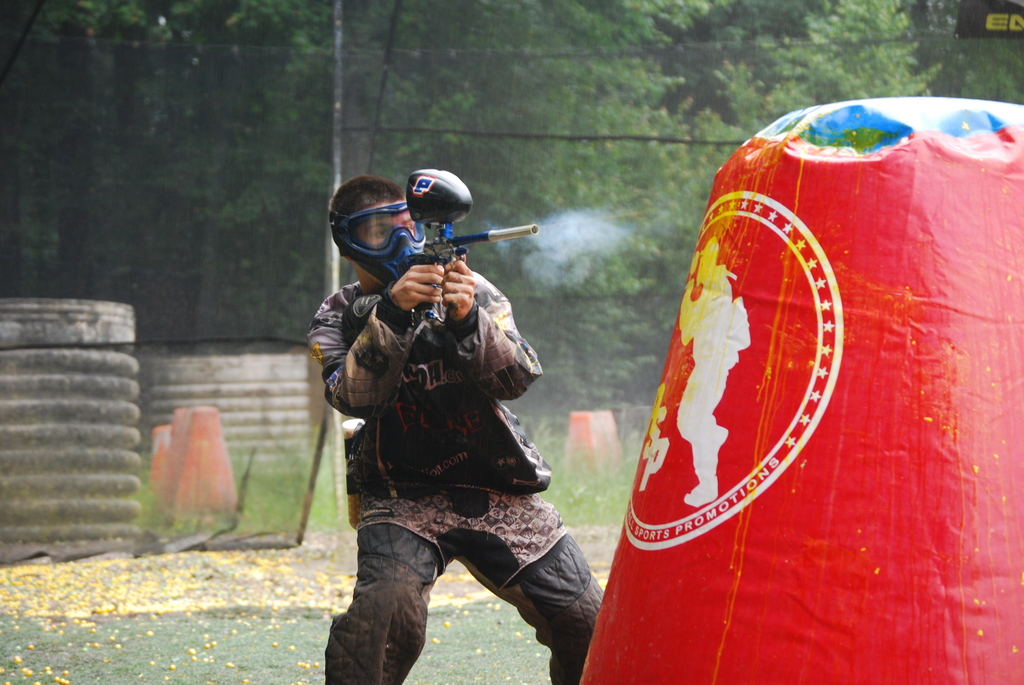Person: (306, 174, 604, 685)
